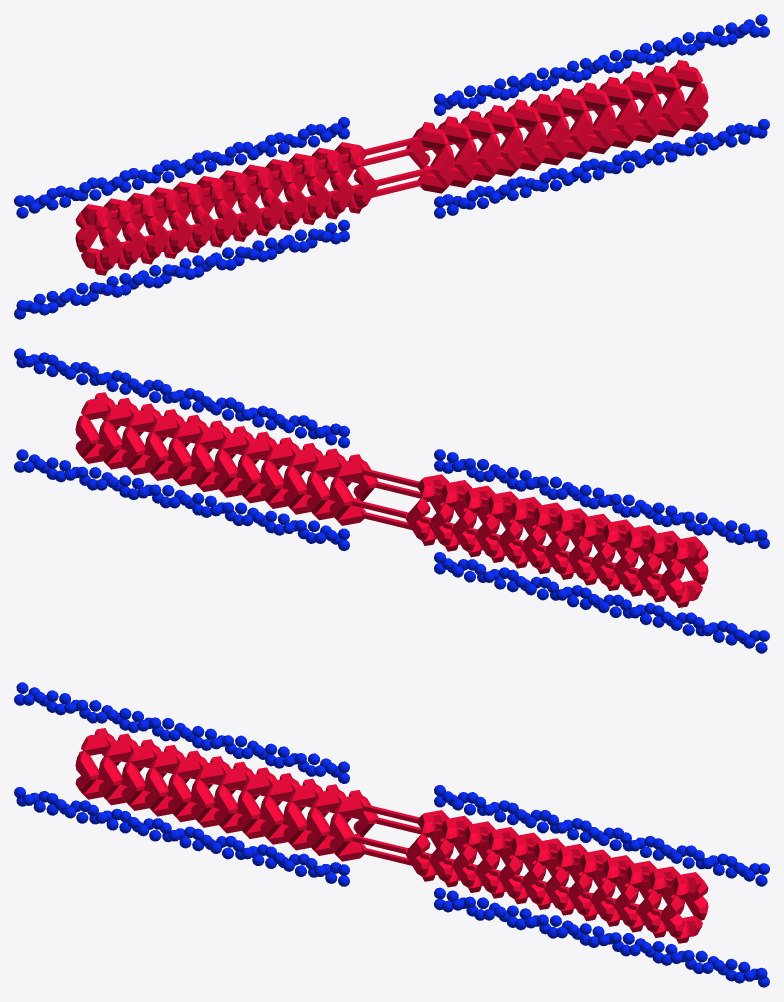
The model's file is sarcomere.gltf.
3 views of the same model, one above another, from view 1: azimuth 30°, elevation 25°; view 2: azimuth 150°, elevation 25°; view 3: azimuth 330°, elevation 25° (orthographic).
Visible parts, largest first — view 1: texture.png_texture.png_mesh.003; view 2: texture.png_texture.png_mesh.003; view 3: texture.png_texture.png_mesh.003.
Boxes of the visible parts, left/top/right/bottom form: texture.png_texture.png_mesh.003: left=14, top=14, right=769, bottom=319; texture.png_texture.png_mesh.003: left=14, top=348, right=769, bottom=653; texture.png_texture.png_mesh.003: left=14, top=682, right=769, bottom=987.
Size of the model in its own units: 3.61 by 0.5716 by 0.2717.
1 material, 1 textured.
